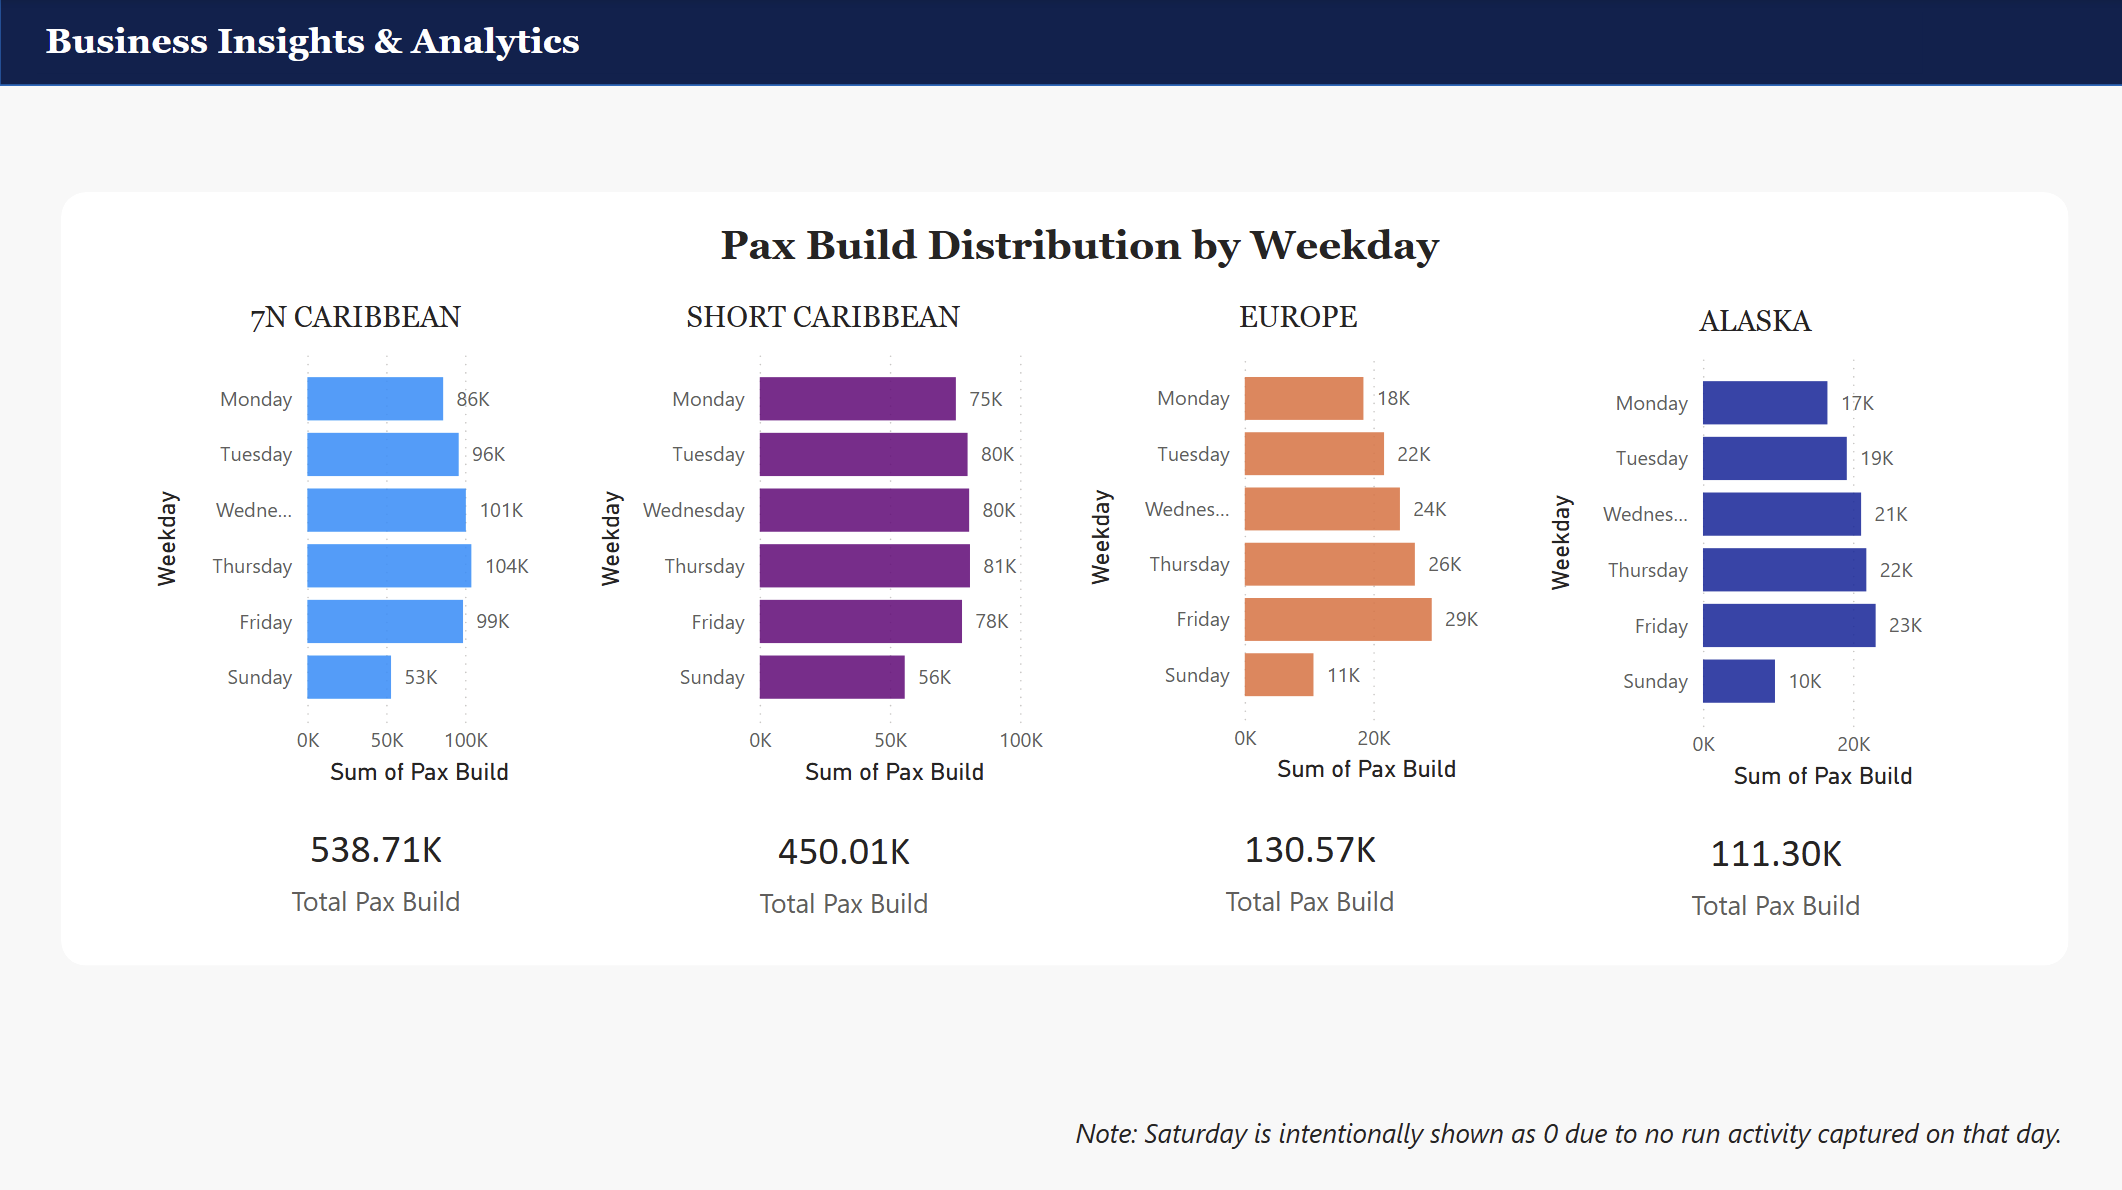

Layout of this report page (visuals, bound fields, positions):
{"tool":"powerbi","page":{"name":"Business Analytics & Insights","canvas":[1280,720],"ordinal":1},"visuals":[{"type":"shape","box":[36.7,116.7,1206.7,465],"z":0},{"type":"shape","box":[0,0,1280,52.9],"z":1000},{"type":"textbox","box":[22.9,8.6,1132.9,37.1],"z":2000},{"type":"clusteredBarChart","title":"7N CARIBBEAN","fields":{"Y":["Sum(cleaned_pax_build_data.pax_build)"],"Category":["Weekday Sort.weekday_name"]},"box":[81.8,176,263.3,308.3],"z":4000},{"type":"clusteredBarChart","title":"EUROPE","fields":{"Y":["Sum(cleaned_pax_build_data.pax_build)"],"Category":["Weekday Sort.weekday_name"]},"box":[643.4,176,273.3,306.7],"z":5000},{"type":"clusteredBarChart","title":"SHORT CARIBBEAN","fields":{"Y":["Sum(cleaned_pax_build_data.pax_build)"],"Category":["Weekday Sort.weekday_name"]},"box":[348.4,176,291.7,308.3],"z":6000},{"type":"textbox","box":[390,130,520,46.7],"z":7000},{"type":"textbox","box":[642,666,638,36],"z":8000},{"type":"card","fields":{"Values":["Sum(cleaned_pax_build_data.pax_build)"]},"box":[116.9,486.7,220,70],"z":9000},{"type":"card","fields":{"Values":["Sum(cleaned_pax_build_data.pax_build)"]},"box":[678,486.7,220,70],"z":10000},{"type":"card","fields":{"Values":["Sum(cleaned_pax_build_data.pax_build)"]},"box":[397.4,488.4,220,70],"z":11000},{"type":"clusteredBarChart","title":"ALASKA","fields":{"Y":["Sum(cleaned_pax_build_data.pax_build)"],"Category":["Weekday Sort.weekday_name"]},"box":[920.1,178.5,270,308.3],"z":12000},{"type":"card","fields":{"Values":["Sum(cleaned_pax_build_data.pax_build)"]},"box":[958.6,489.2,220,70],"z":13000}]}

Visuals, with their boxes in screenshot pixels (x1, y1, x2, y2), scaled from the page's 1280x720 canvas onto the 2122x1190 screenshot:
shape: BBox(61, 193, 2061, 961)
shape: BBox(0, 0, 2121, 87)
textbox: BBox(38, 14, 1916, 76)
"7N CARIBBEAN" clusteredBarChart: BBox(136, 291, 572, 800)
"EUROPE" clusteredBarChart: BBox(1067, 291, 1520, 798)
"SHORT CARIBBEAN" clusteredBarChart: BBox(578, 291, 1061, 800)
textbox: BBox(647, 215, 1509, 292)
textbox: BBox(1064, 1101, 2121, 1160)
card - Sum(cleaned_pax_build_data.pax_build): BBox(194, 804, 559, 920)
card - Sum(cleaned_pax_build_data.pax_build): BBox(1124, 804, 1489, 920)
card - Sum(cleaned_pax_build_data.pax_build): BBox(659, 807, 1024, 923)
"ALASKA" clusteredBarChart: BBox(1525, 295, 1973, 805)
card - Sum(cleaned_pax_build_data.pax_build): BBox(1589, 809, 1954, 924)
